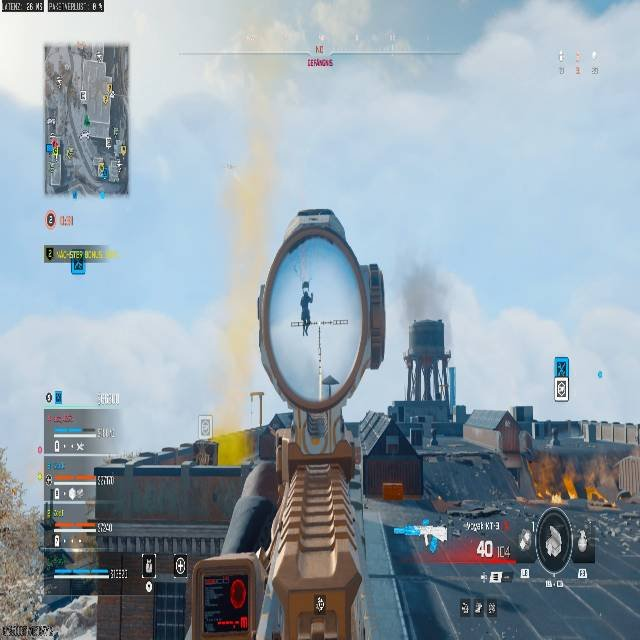head: (302, 281, 309, 289)
player: (299, 281, 313, 336)
